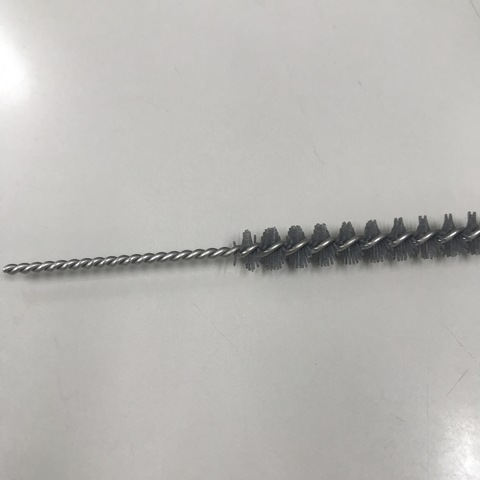Twist Brush-A: (1, 207, 479, 283)
